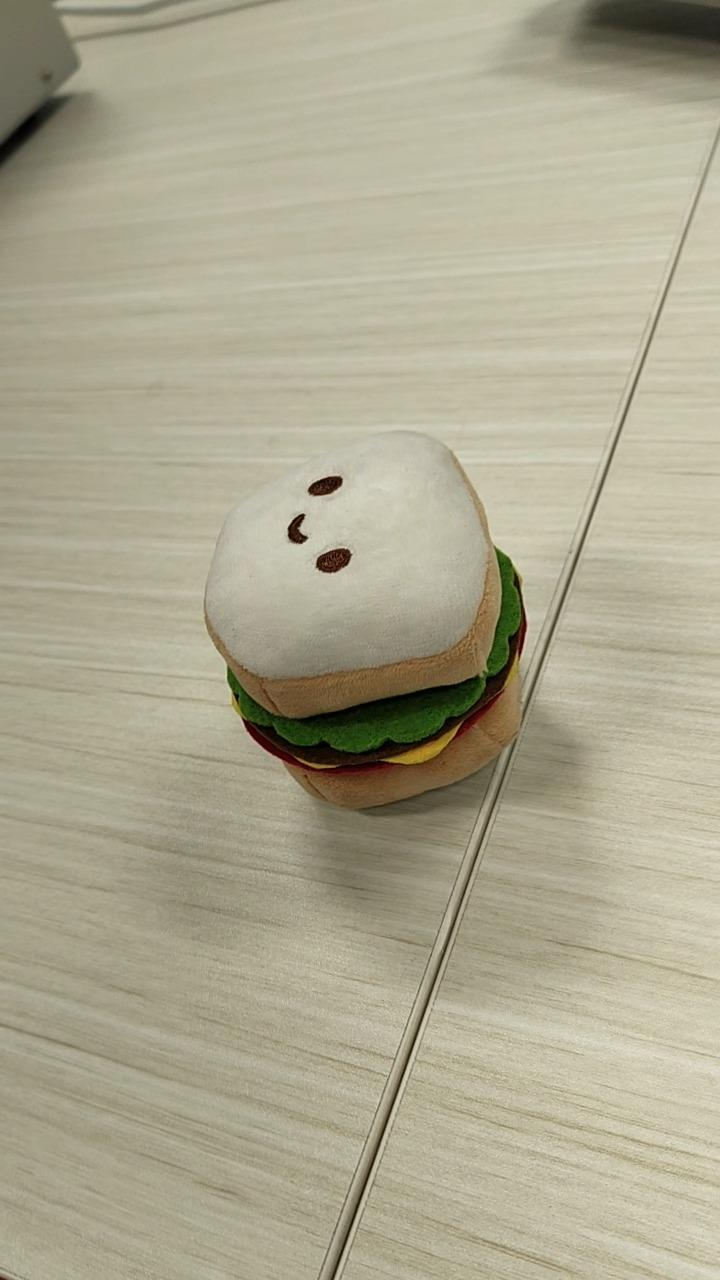objects: (202, 427, 528, 811)
